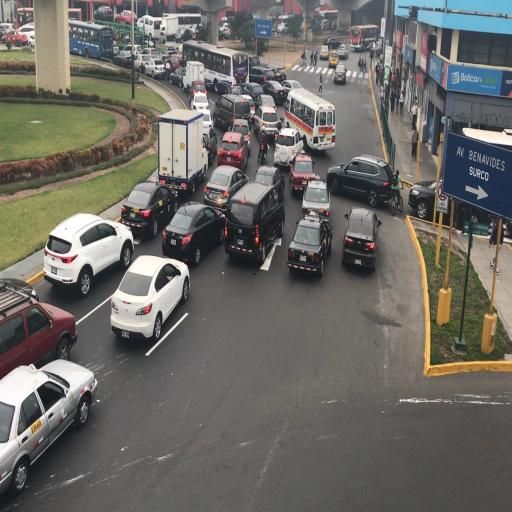auto: (2, 356, 99, 502), (1, 281, 76, 396), (45, 212, 133, 295), (110, 256, 188, 342), (224, 181, 282, 266), (162, 202, 224, 268), (326, 153, 392, 206), (121, 176, 178, 236), (286, 212, 329, 276), (339, 208, 376, 272), (204, 163, 248, 212), (43, 234, 78, 287), (409, 178, 450, 222), (214, 92, 252, 134), (216, 130, 250, 171), (253, 163, 285, 206), (301, 177, 330, 223), (289, 152, 318, 196), (274, 129, 301, 171), (256, 107, 280, 146), (260, 78, 287, 105), (254, 92, 276, 124), (248, 65, 278, 88), (136, 47, 161, 71), (279, 78, 303, 102), (191, 91, 210, 119), (114, 44, 138, 66), (165, 54, 183, 81), (189, 79, 207, 104), (16, 22, 35, 44), (114, 9, 137, 26), (128, 52, 145, 74), (93, 5, 113, 22), (334, 62, 346, 84), (164, 44, 180, 60), (328, 49, 339, 67), (338, 44, 348, 60), (319, 44, 329, 60), (277, 22, 290, 34), (223, 26, 232, 39)
bus: (284, 86, 334, 152), (182, 40, 239, 94), (69, 20, 113, 60), (170, 12, 204, 38), (350, 22, 378, 52), (140, 14, 166, 42), (160, 13, 181, 40), (16, 7, 34, 29)
camion: (157, 108, 205, 200)
